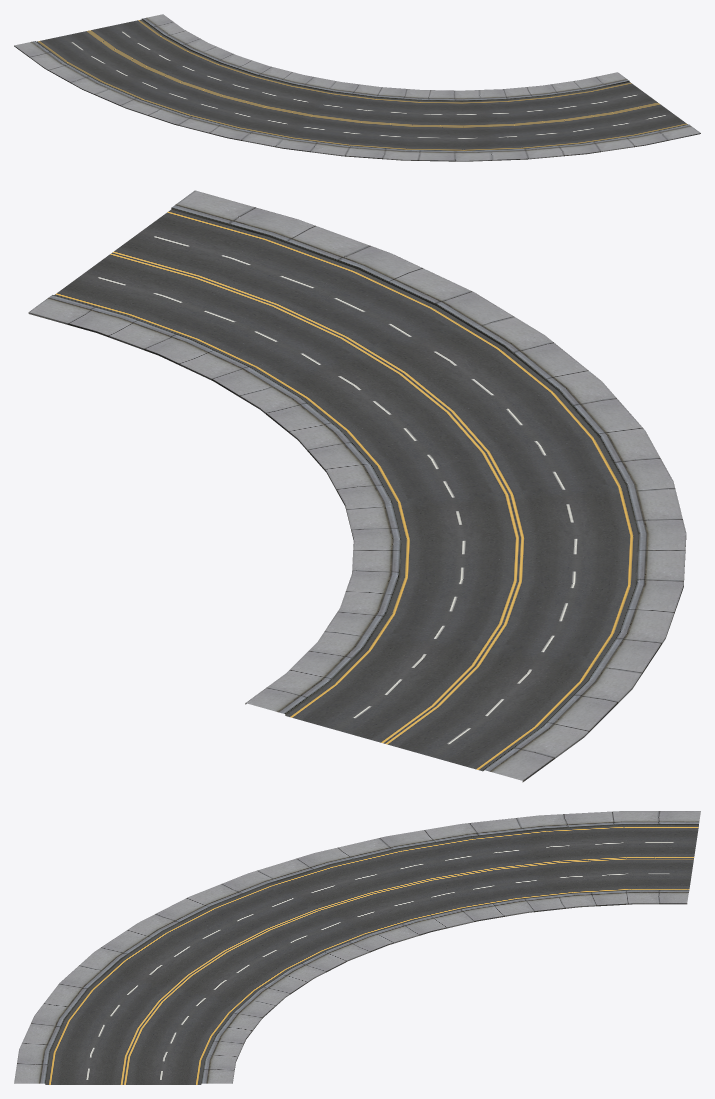
File: road13.glb
3 views of the same model, one above another, from view 1: azimuth 30°, elevation 25°; view 2: azimuth 150°, elevation 25°; view 3: azimuth 270°, elevation 25° (orthographic). The views are drawn at different scales.
Visible parts, largest first — view 1: ro_13; view 2: ro_13; view 3: ro_13.
Boxes of the visible parts, left/top/right/bottom form: ro_13: left=14, top=14, right=700, bottom=161; ro_13: left=28, top=190, right=686, bottom=782; ro_13: left=14, top=811, right=700, bottom=1084.
Size of the model in its own units: 89.5 by 0.1636 by 95.31.
1 material, 1 textured.
